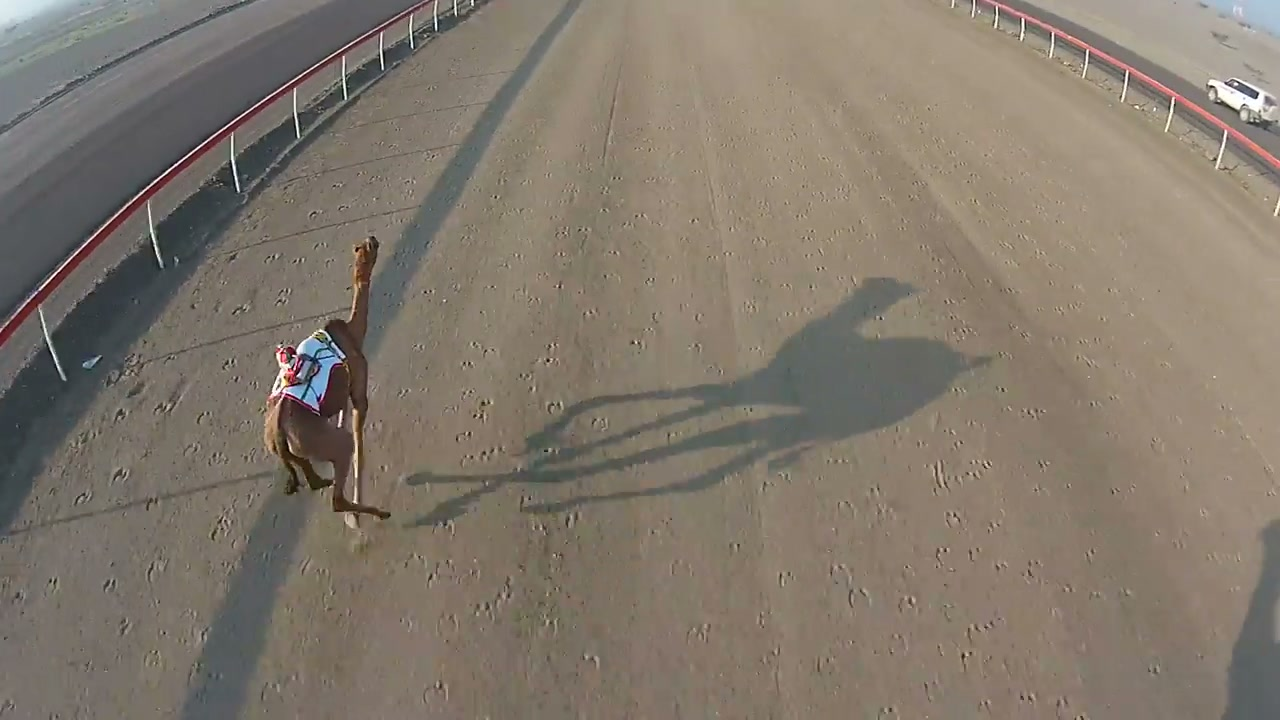animal_footprint: (9, 189, 351, 606), (384, 220, 608, 719), (891, 360, 1051, 715)
